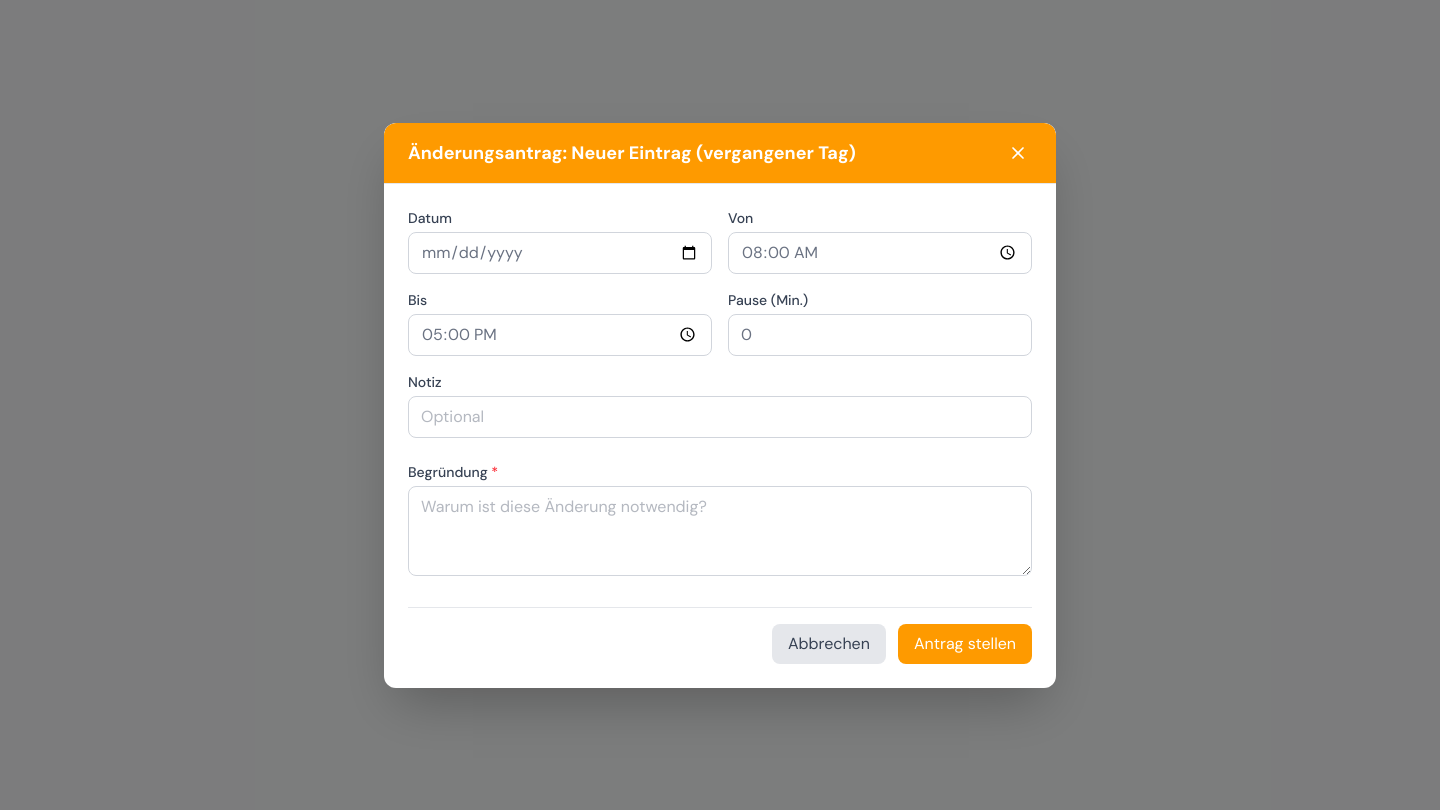
Test: <ChangeRequestForm /> Pflicht-Pause-Ausnahme (#499) › bietet das Begründungsfeld nach einem §4-Fehler an (Default)
Type "vergessen" into the text box with placeholder "Warum ist diese Änderung notwendig?". click: point(720, 530)
box: [408,486,1032,576]
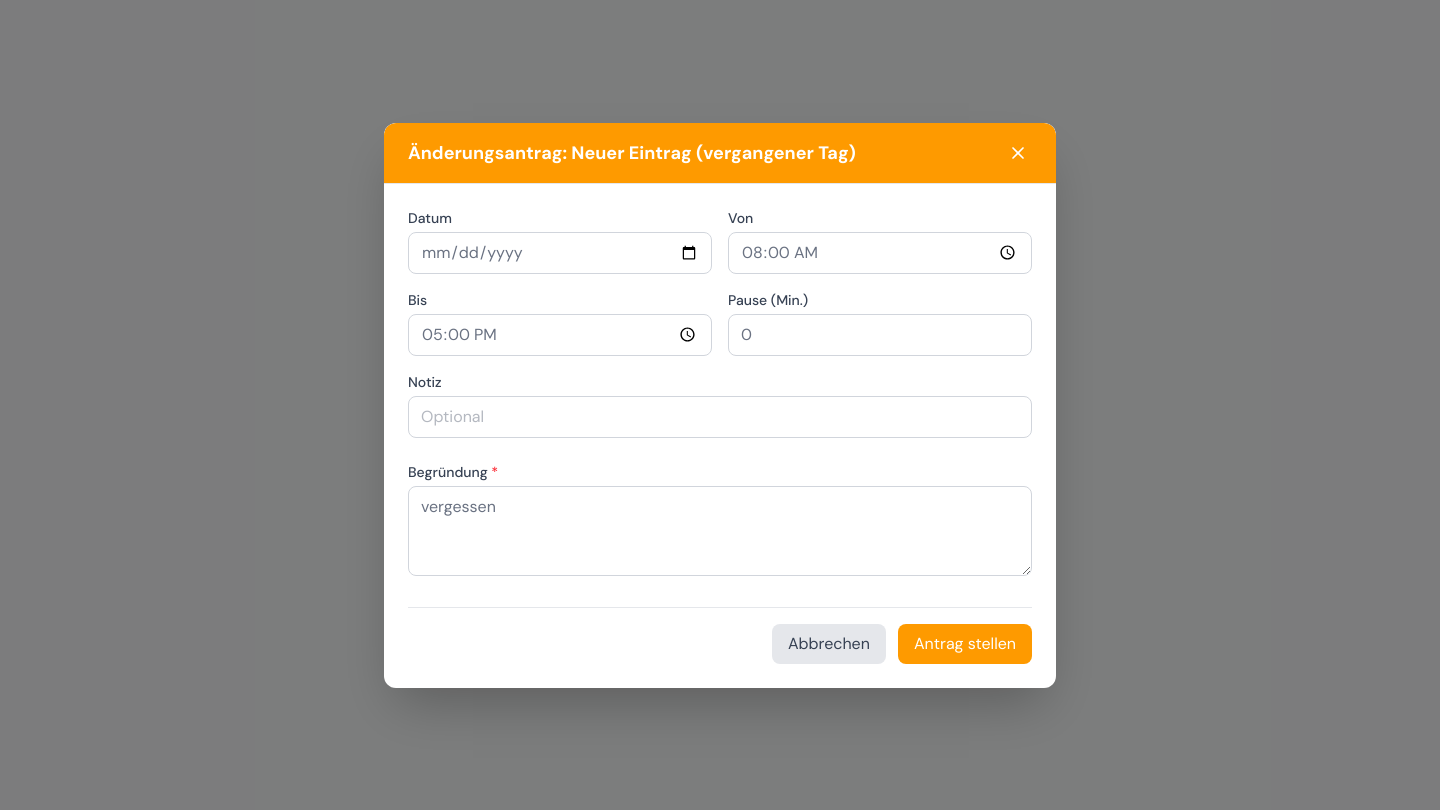
Submit the form, box [384,184,1056,688]
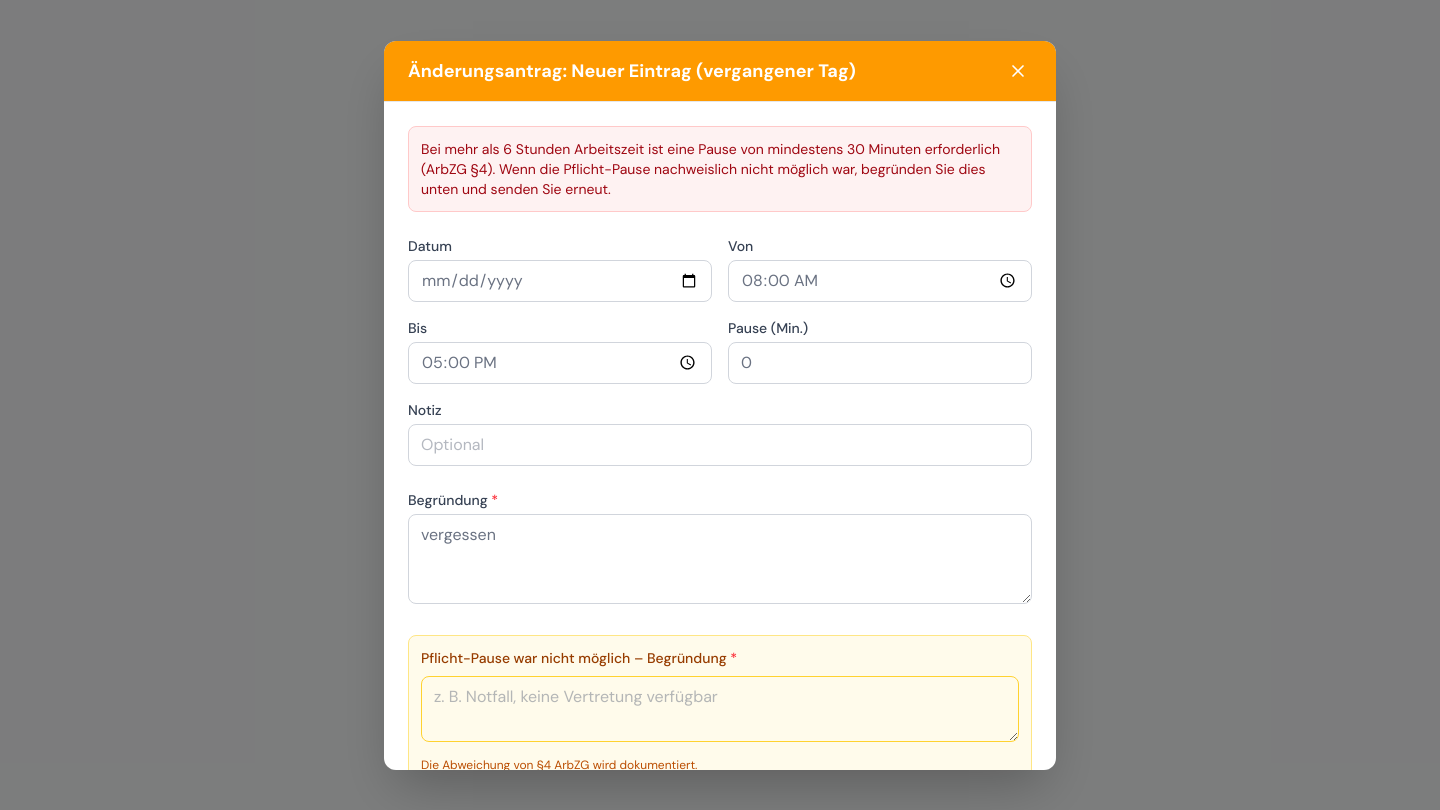
Result: the text "Pflicht-Pause war nicht möglich – Begründung *" is shown at [421,648,737,666]
